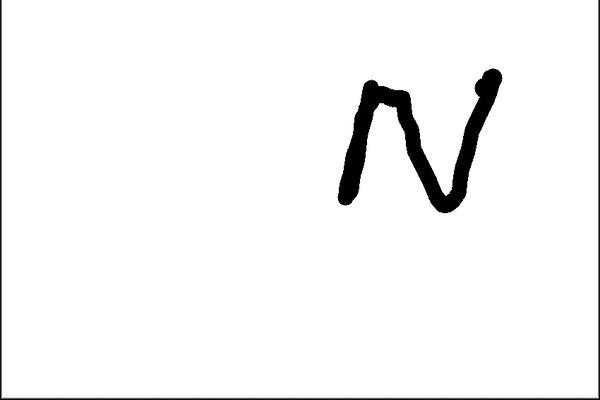N: (333, 61, 509, 217)
